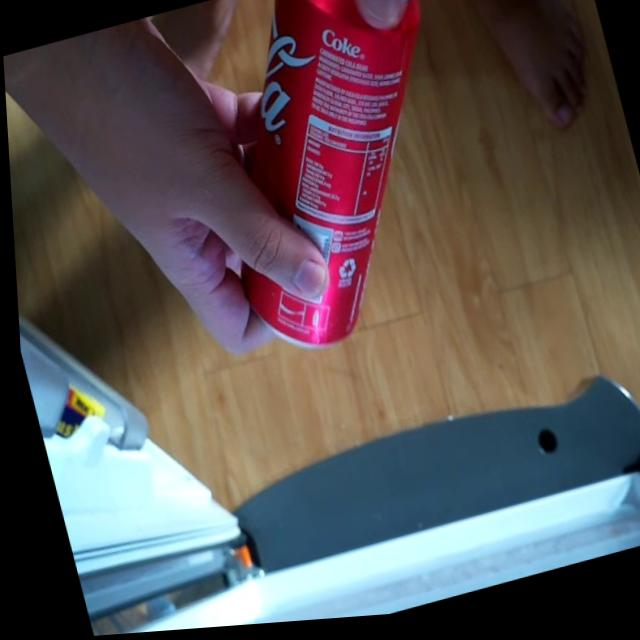coke: (160, 0, 511, 379)
